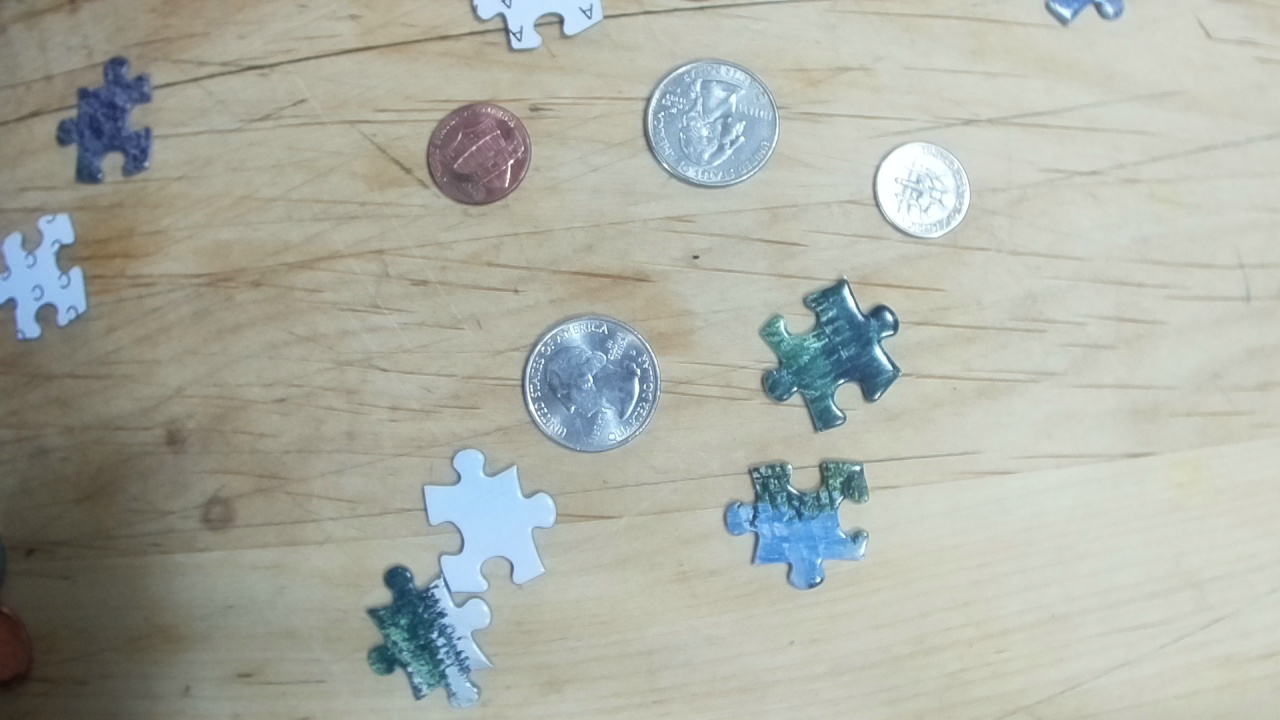dime: (872, 138, 972, 242)
penny: (425, 100, 535, 208)
quarter: (522, 314, 660, 454), (642, 58, 780, 188)
